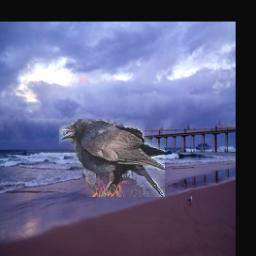Crow: (60, 120, 166, 198)
